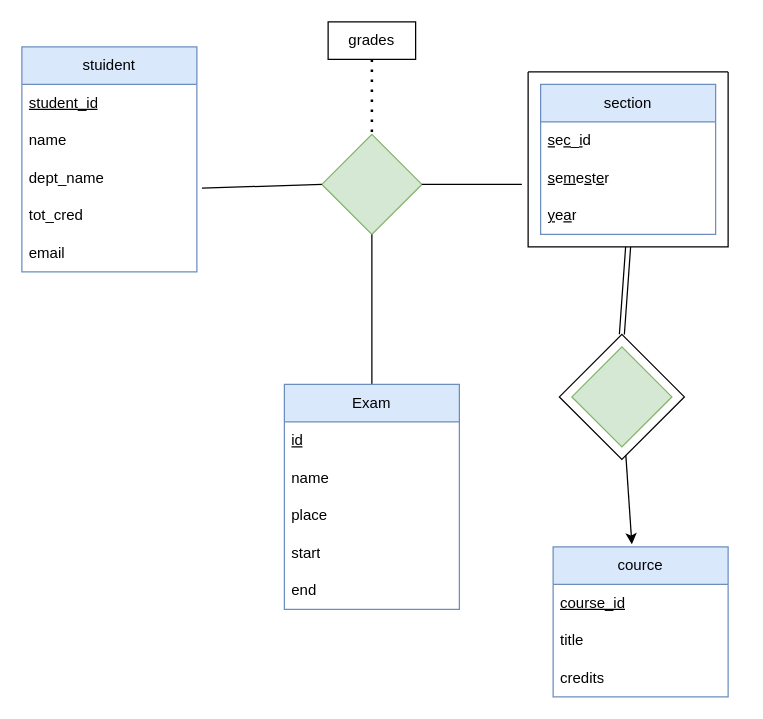
Some shapes in this 763 by 719 pixel diagram are drawn without their labels. The shapes that lost their labels are listed below. From the top down, each one's centre as x and y in pixels, then its label:
At (x=371, y=183): "Exam_marks".
At (x=621, y=396): "sec_cource".
